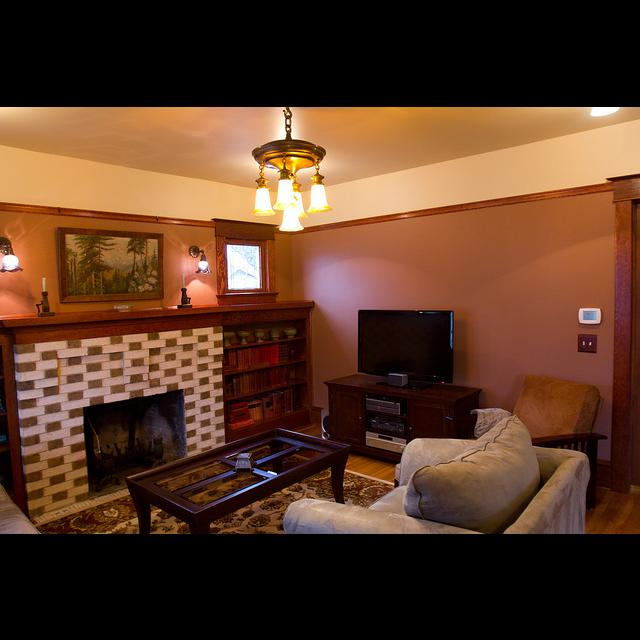Flat-Panel-TV: (357, 305, 456, 387)
TV-Remote-Control: (234, 452, 252, 472)
